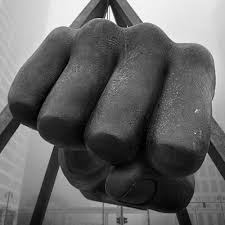fist: (41, 28, 205, 198)
